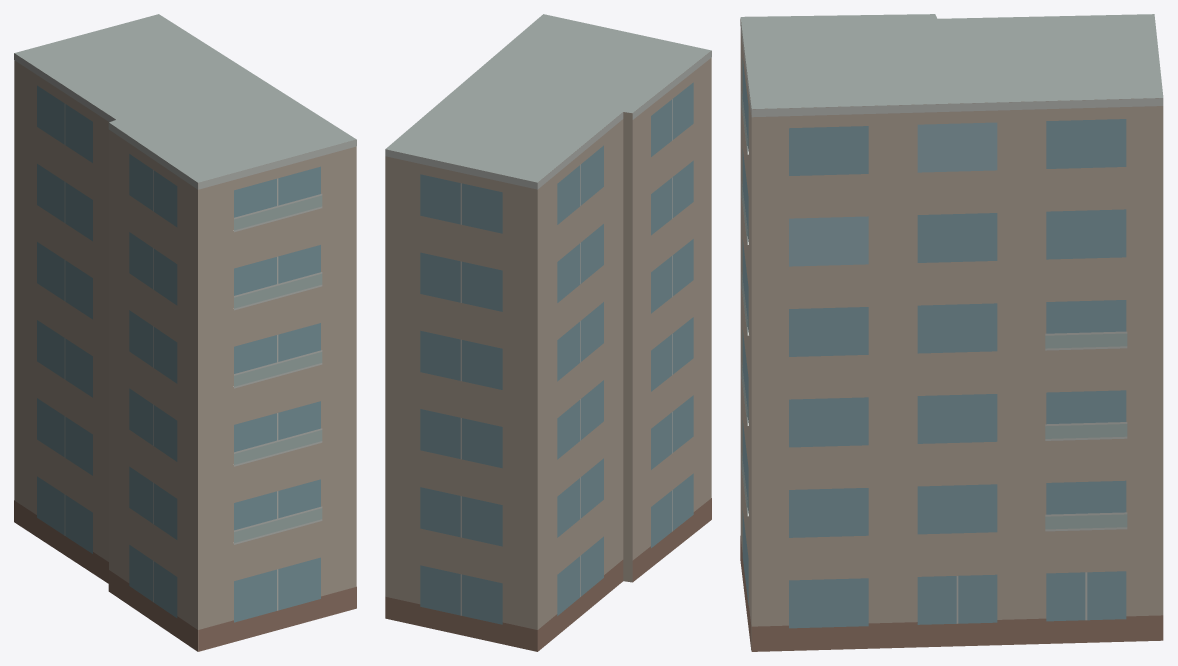
The model's file is survey-upis-33019527.glb.
The picture shows the model from 3 angles, left to right: view 1: azimuth 30°, elevation 25°; view 2: azimuth 150°, elevation 25°; view 3: azimuth 270°, elevation 25°; orthographic projection. The views are drawn at different scales.
Parts seen in each view (by area): view 1: survey-upis-33019527.tmp; view 2: survey-upis-33019527.tmp; view 3: survey-upis-33019527.tmp.
Part boxes in pixels (x1=…): survey-upis-33019527.tmp: x1=14, y1=14, x2=356, y2=651; survey-upis-33019527.tmp: x1=385, y1=14, x2=711, y2=651; survey-upis-33019527.tmp: x1=740, y1=14, x2=1163, y2=651.
Size of the model in its own units: 6.17 by 16.4 by 11.59.
